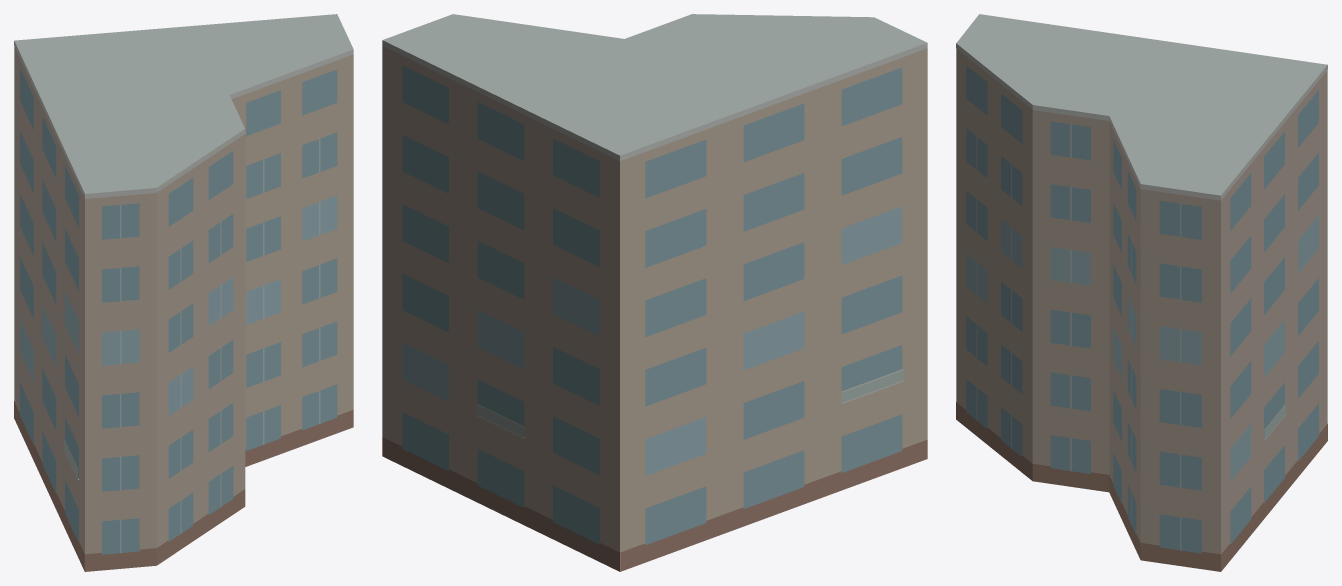
File: survey-upis-32890569.glb
The picture shows the model from 3 angles, left to right: view 1: azimuth 30°, elevation 25°; view 2: azimuth 150°, elevation 25°; view 3: azimuth 270°, elevation 25°; orthographic projection. The views are drawn at different scales.
Parts seen in each view (by area): view 1: survey-upis-32890569.tmp; view 2: survey-upis-32890569.tmp; view 3: survey-upis-32890569.tmp.
Boxes of the visible parts, x1=… form: survey-upis-32890569.tmp: x1=14, y1=14, x2=353, y2=571; survey-upis-32890569.tmp: x1=382, y1=14, x2=927, y2=571; survey-upis-32890569.tmp: x1=956, y1=14, x2=1327, y2=571.
Bounding box in the file's own units: 18.95 × 18.3 × 16.38.
